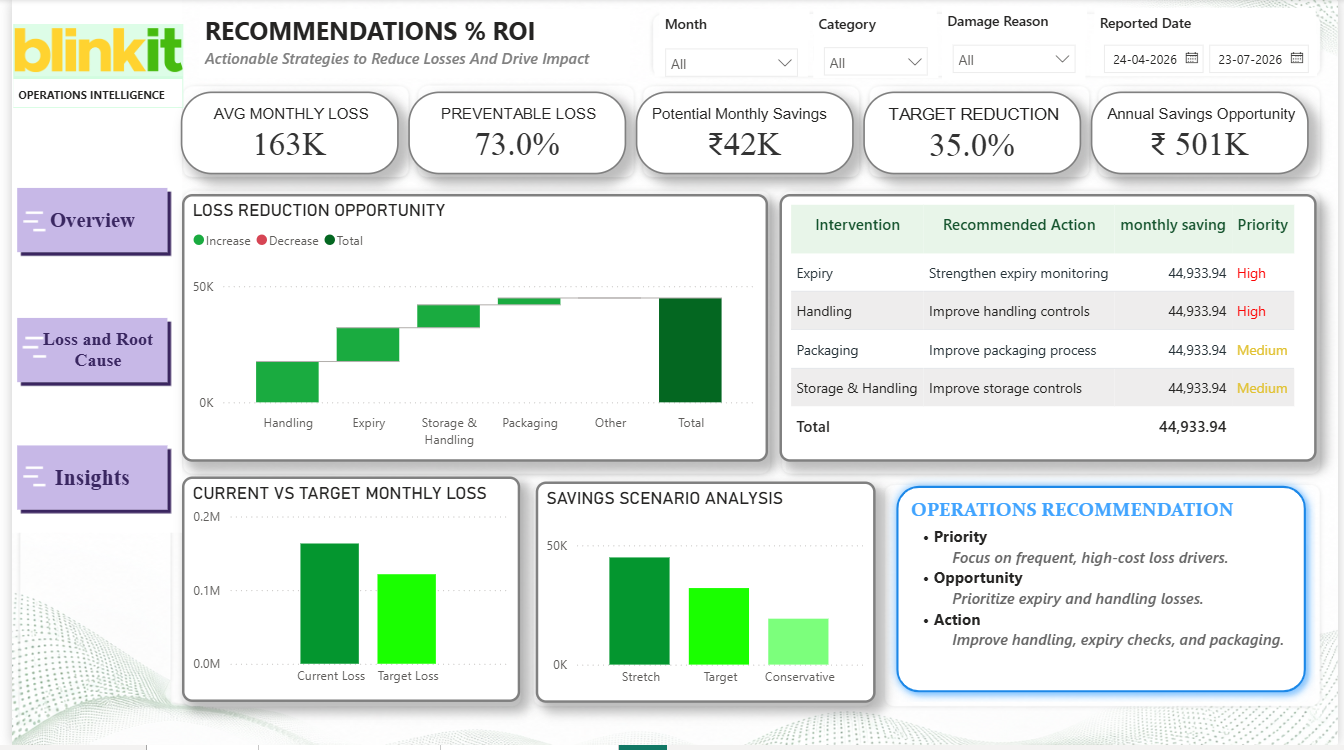

Layout of this report page (visuals, bound fields, positions):
{"tool":"powerbi","page":{"name":"Recommendations","canvas":[1280,720],"ordinal":2},"visuals":[{"type":"shape","box":[0,0,164.1,515.2],"z":0},{"type":"slicer","fields":{"Values":["damaged_products.report_date"]},"box":[1041.2,33.8,218.4,41],"z":0,"group":"g8"},{"type":"slicer","fields":{"Values":["damaged_products.damage_reason"]},"box":[897.6,34.7,138.7,44.6],"z":0,"group":"g7"},{"type":"slicer","fields":{"Values":["damaged_products.category"]},"box":[773,36.2,120.6,39.8],"z":0,"group":"g6"},{"type":"slicer","fields":{"Values":["damaged_products.damage_date.Variation.Date Hierarchy.Month"]},"box":[620.1,37.9,148.4,37.4],"z":0,"group":"g5"},{"type":"textbox","box":[897.5,7.7,139.9,32.6],"z":1000,"group":"g7"},{"type":"textbox","box":[1044.6,8,213.5,30.2],"z":1000,"group":"g8"},{"type":"group","id":"g1","title":"Group 5","box":[0,8.4,164.1,80.8],"z":1000},{"type":"image","box":[1.3,8.4,162.8,50.6],"z":1000,"group":"g1"},{"type":"textbox","box":[624.6,9.6,144.8,30.2],"z":1000,"group":"g5"},{"type":"textbox","box":[773.1,10.1,119.4,36.2],"z":1000,"group":"g6"},{"type":"group","id":"g2","title":"Group 9","box":[0,177.3,155,72],"z":2000},{"type":"group","id":"g3","title":"Group 10","box":[0,303.4,155,72],"z":3000},{"type":"group","id":"g4","title":"Group 11","box":[0,425.9,155,72],"z":4000},{"type":"textbox","box":[181,9.7,415,66.4],"z":5000},{"type":"group","id":"g5","title":"Group 1","box":[620.1,9.6,149.2,65.7],"z":6000},{"type":"group","id":"g6","title":"Group 2","box":[773,10.1,120.6,65.9],"z":7000},{"type":"group","id":"g7","title":"Group 3","box":[897.5,7.7,139.9,71.6],"z":8000},{"type":"group","id":"g8","title":"Group 4","box":[1041.2,8,218.4,66.8],"z":9000},{"type":"advanceCardE03760C5AB684758B56AA29F9E6C257B","title":"AVG MONTHLY LOSS","fields":{"mainMeasure":["damaged_products.Monthly Avg Loss"]},"box":[162.9,89.3,217.2,84.5],"z":10000},{"type":"advanceCardE03760C5AB684758B56AA29F9E6C257B","title":"PREVENTABLE LOSS","fields":{"mainMeasure":["damaged_products.Preventable Loss %"]},"box":[382.4,89.3,217.2,84.5],"z":11000},{"type":"advanceCardE03760C5AB684758B56AA29F9E6C257B","title":"Potential Monthly Savings","fields":{"mainMeasure":["damaged_products.Potential Monthly Savings"]},"box":[602,89.3,217.2,84.5],"z":12000},{"type":"actionButton","box":[0,177.3,155,72],"z":12000,"group":"g2"},{"type":"advanceCardE03760C5AB684758B56AA29F9E6C257B","title":"TARGET REDUCTION","fields":{"mainMeasure":["damaged_products.Target Reduction %"]},"box":[821.6,89.3,217.3,84],"z":13000},{"type":"actionButton","box":[0,303.4,155,72],"z":13000,"group":"g3"},{"type":"advanceCardE03760C5AB684758B56AA29F9E6C257B","title":"Annual Savings Opportunity","fields":{"mainMeasure":["damaged_products.Annual Savings Opportunity"]},"box":[1041.3,89.3,217.3,84],"z":14000},{"type":"actionButton","box":[0,425.9,155,72],"z":14000,"group":"g4"},{"type":"waterfallChart","title":"LOSS REDUCTION OPPORTUNITY","fields":{"Category":["damaged_products.Intervention Area"],"Y":["damaged_products.Intervention Savings"]},"box":[164,188,565.3,258.7],"z":15000},{"type":"tableEx","fields":{"Values":["Recommendations.Intervention","Recommendations.Recommended Action","Recommendations.monthly saving","Recommendations.Priority"]},"box":[741.3,188,518.7,258.7],"z":16000},{"type":"actionButton","box":[0,92,100,40],"z":17000},{"type":"clusteredColumnChart","title":"CURRENT VS TARGET MONTHLY LOSS","fields":{"Y":["Loss Target Comparison.Loss Comparison Value"],"Category":["Loss Target Comparison.Metric"]},"box":[164,461.3,326.7,217.3],"z":18000},{"type":"clusteredColumnChart","title":"SAVINGS SCENARIO ANALYSIS","fields":{"Category":["Savings Scenarios.Scenario"],"Y":["Savings Scenarios.Scenario Savings"]},"box":[505.3,465.3,328,213.3],"z":19000},{"type":"shape","box":[844,461.3,413.3,217.3],"z":20000},{"type":"textbox","box":[862.7,476,364,38.7],"z":21000},{"type":"textbox","box":[862.7,502.7,376,150.7],"z":22000},{"type":"textbox","box":[0,61.8,163.1,27.4],"z":23000,"group":"g1"},{"type":"image","box":[0,200.1,43.1,29.2],"z":27000,"group":"g2"},{"type":"image","box":[0,321.1,43.1,30.7],"z":27001,"group":"g3"},{"type":"image","box":[0,446.3,43.1,29.2],"z":27002,"group":"g4"}]}

Visuals, with their boxes in screenshot pixels (x1, y1, x2, y2), scaled from the page's 1280x720 canvas onto the 1344x750 screenshot:
shape: locate(0, 0, 172, 537)
slicer - damaged_products.report_date: locate(1093, 35, 1323, 78)
slicer - damaged_products.damage_reason: locate(942, 36, 1088, 83)
slicer - damaged_products.category: locate(812, 38, 938, 79)
slicer - damaged_products.damage_date.Variation.Date Hierarchy.Month: locate(651, 39, 807, 78)
textbox: locate(942, 8, 1089, 42)
textbox: locate(1097, 8, 1321, 40)
"Group 5" group: locate(0, 9, 172, 93)
image: locate(1, 9, 172, 61)
textbox: locate(656, 10, 808, 41)
textbox: locate(812, 11, 937, 48)
"Group 9" group: locate(0, 185, 163, 260)
"Group 10" group: locate(0, 316, 163, 391)
"Group 11" group: locate(0, 444, 163, 519)
textbox: locate(190, 10, 626, 79)
"Group 1" group: locate(651, 10, 808, 78)
"Group 2" group: locate(812, 11, 938, 79)
"Group 3" group: locate(942, 8, 1089, 83)
"Group 4" group: locate(1093, 8, 1323, 78)
"AVG MONTHLY LOSS" advanceCardE03760C5AB684758B56AA29F9E6C257B: locate(171, 93, 399, 181)
"PREVENTABLE LOSS" advanceCardE03760C5AB684758B56AA29F9E6C257B: locate(402, 93, 630, 181)
"Potential Monthly Savings" advanceCardE03760C5AB684758B56AA29F9E6C257B: locate(632, 93, 860, 181)
actionButton: locate(0, 185, 163, 260)
"TARGET REDUCTION" advanceCardE03760C5AB684758B56AA29F9E6C257B: locate(863, 93, 1091, 181)
actionButton: locate(0, 316, 163, 391)
"Annual Savings Opportunity" advanceCardE03760C5AB684758B56AA29F9E6C257B: locate(1093, 93, 1322, 181)
actionButton: locate(0, 444, 163, 519)
"LOSS REDUCTION OPPORTUNITY" waterfallChart: locate(172, 196, 766, 465)
tableEx - Recommendations.Intervention x Recommendations.Recommended Action: locate(778, 196, 1323, 465)
actionButton: locate(0, 96, 105, 138)
"CURRENT VS TARGET MONTHLY LOSS" clusteredColumnChart: locate(172, 481, 515, 707)
"SAVINGS SCENARIO ANALYSIS" clusteredColumnChart: locate(531, 485, 875, 707)
shape: locate(886, 481, 1320, 707)
textbox: locate(906, 496, 1288, 536)
textbox: locate(906, 524, 1301, 681)
textbox: locate(0, 64, 171, 93)
image: locate(0, 208, 45, 239)
image: locate(0, 334, 45, 366)
image: locate(0, 465, 45, 495)
